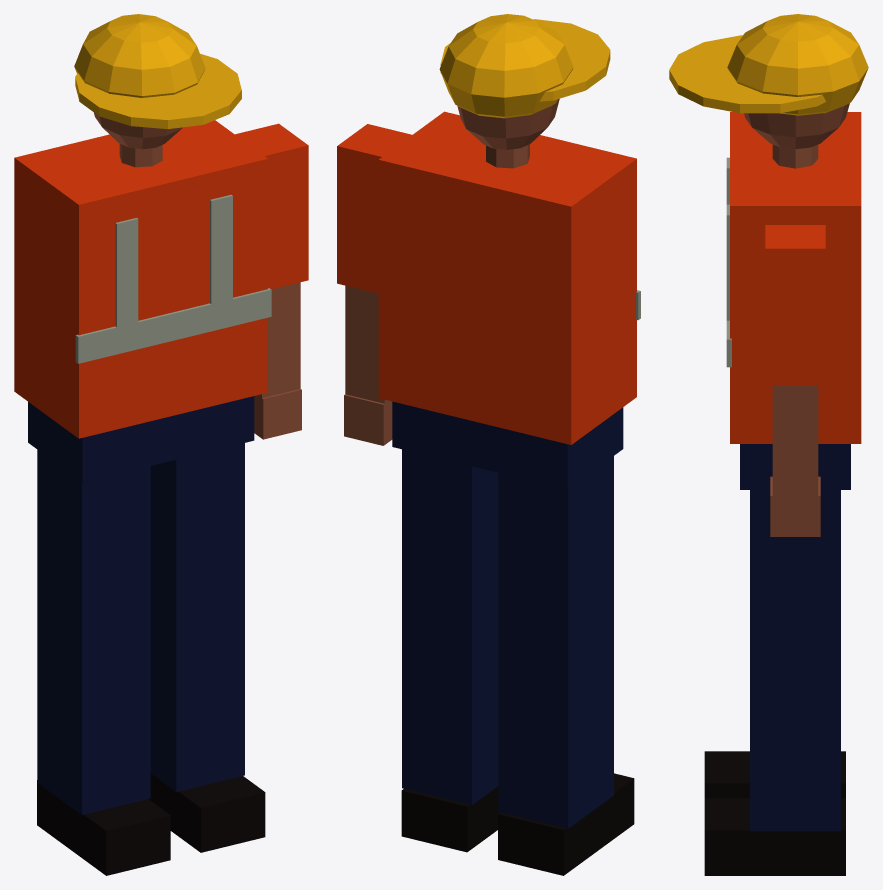
Rendered from obrero_cuerpo.obj.
3 renders of one model, left to right at view 1: azimuth 30°, elevation 25°; view 2: azimuth 150°, elevation 25°; view 3: azimuth 270°, elevation 25°, orthographic.
Parts seen in each view (by area): view 1: obrero_cuerpo_exp; view 2: obrero_cuerpo_exp; view 3: obrero_cuerpo_exp.
Part boxes in pixels (x1,y1,x2,y2): obrero_cuerpo_exp: (14,14,308,875); obrero_cuerpo_exp: (337,14,640,875); obrero_cuerpo_exp: (669,14,868,875).
Bounding box in the file's own units: 0.58 × 1.78 × 0.395.
